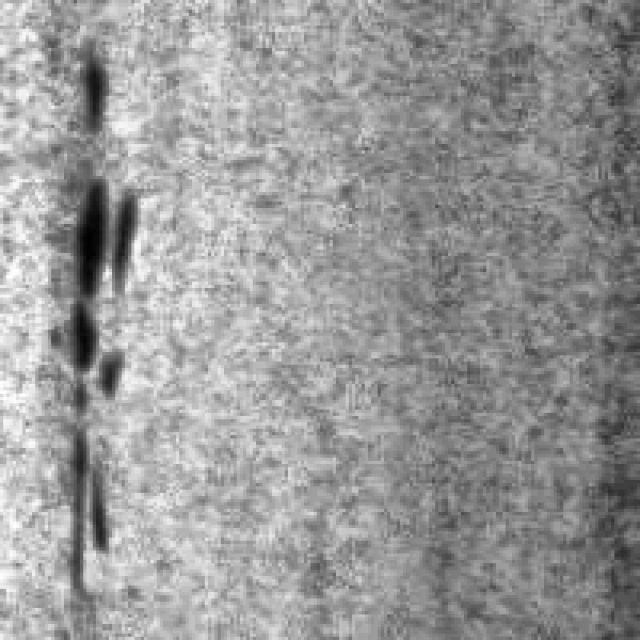Patches: (55, 294, 132, 592), (58, 166, 140, 301), (67, 49, 112, 138)
